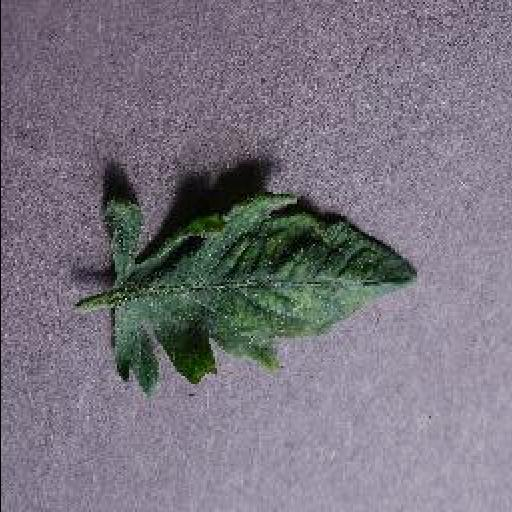disease_tomato: (93, 184, 423, 398)
